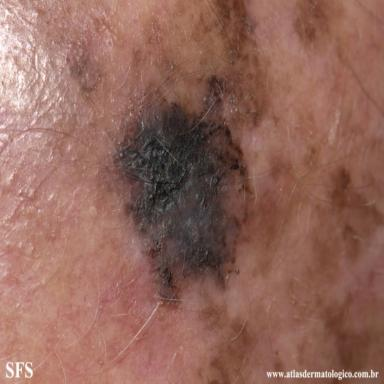Melanoma: (114, 77, 246, 301)
